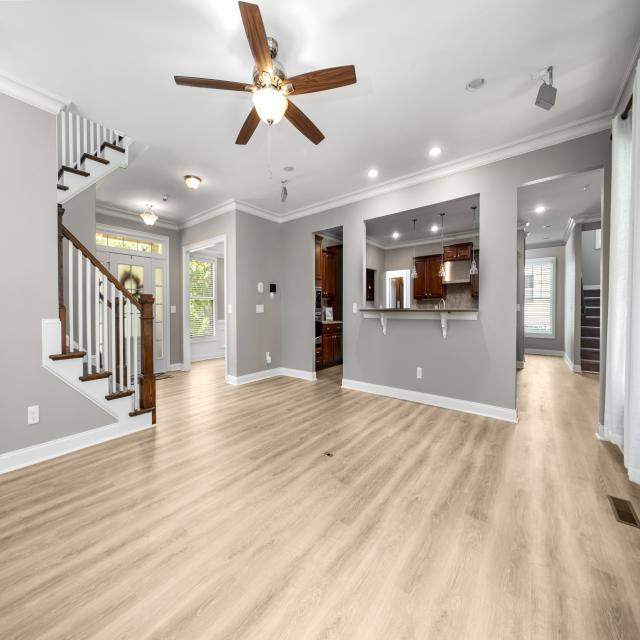floor: (0, 353, 640, 640)
wall: (280, 128, 612, 426), (0, 92, 118, 456), (356, 193, 480, 338), (96, 212, 180, 365), (179, 209, 237, 377), (236, 209, 281, 377), (524, 246, 565, 352), (190, 249, 225, 362), (62, 183, 96, 258), (383, 246, 417, 309), (564, 224, 576, 365), (366, 242, 385, 308), (574, 223, 582, 365), (581, 230, 601, 286), (516, 229, 524, 362), (217, 257, 225, 320), (312, 233, 315, 373), (415, 242, 442, 257), (442, 237, 474, 246), (322, 238, 342, 250), (582, 221, 601, 232), (374, 270, 377, 309), (474, 236, 479, 249), (442, 246, 444, 253)
